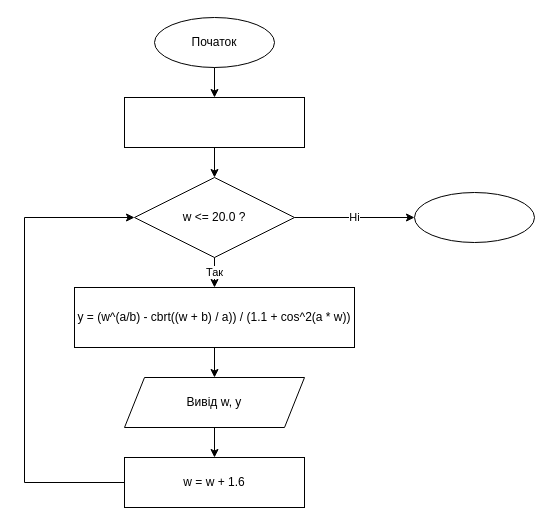
Image size: 552x525. Some labels were removed from this diagram. The centre of each missing label's shape, as x and y in pixels:
"a = 3.5, b = 6.4, w = 6.8 end = 20.0, step = 1.6" goes at (214,122).
"Кінець" goes at (474,217).
